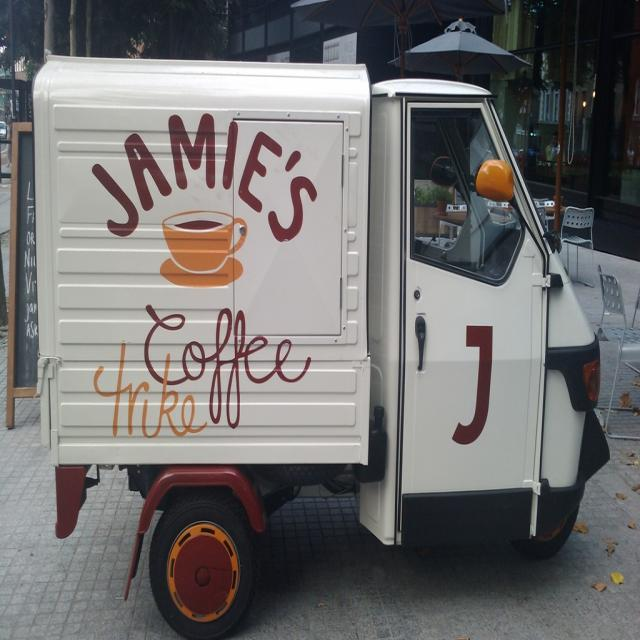Heavy Duty Truck: (30, 55, 604, 638)
